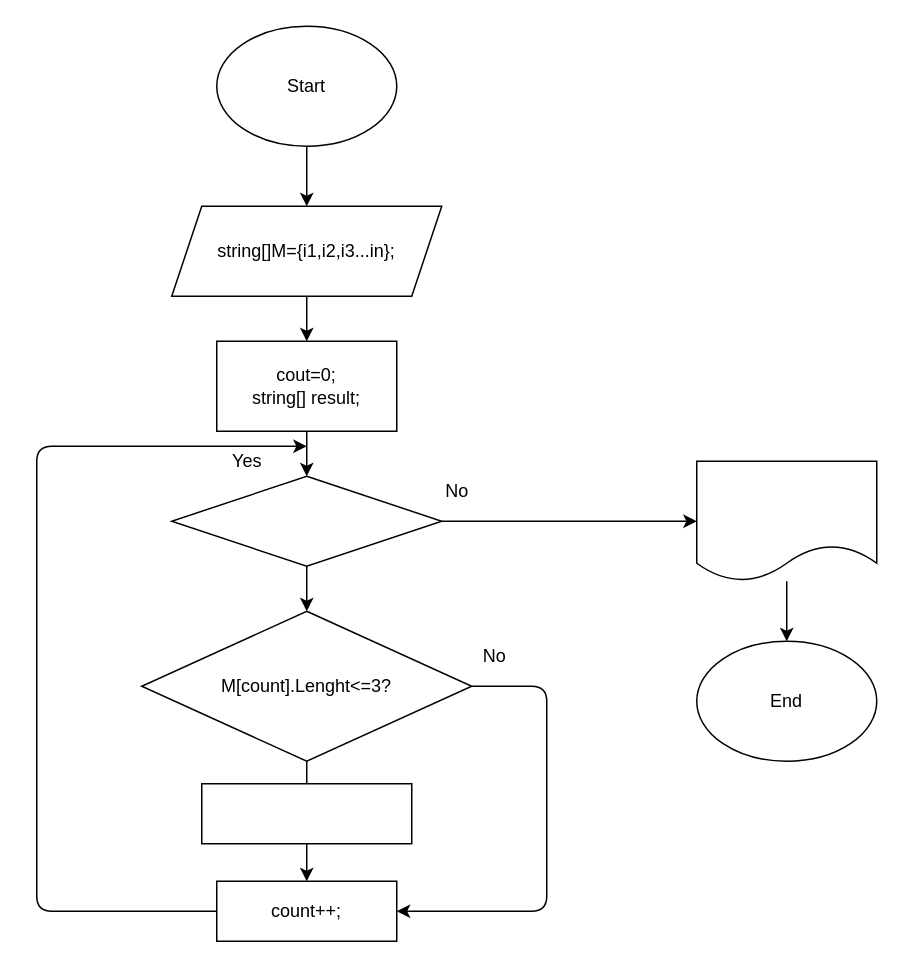
Some shapes in this 903 by 968 pixel diagram are drawn without their labels. Here are the shapes that lost their labels. From the top down, the centre of each, then its label:
At point (306, 520): "count<M.Lenght?".
At point (786, 520): "result".
At point (306, 813): "result[count]=M[count];".
